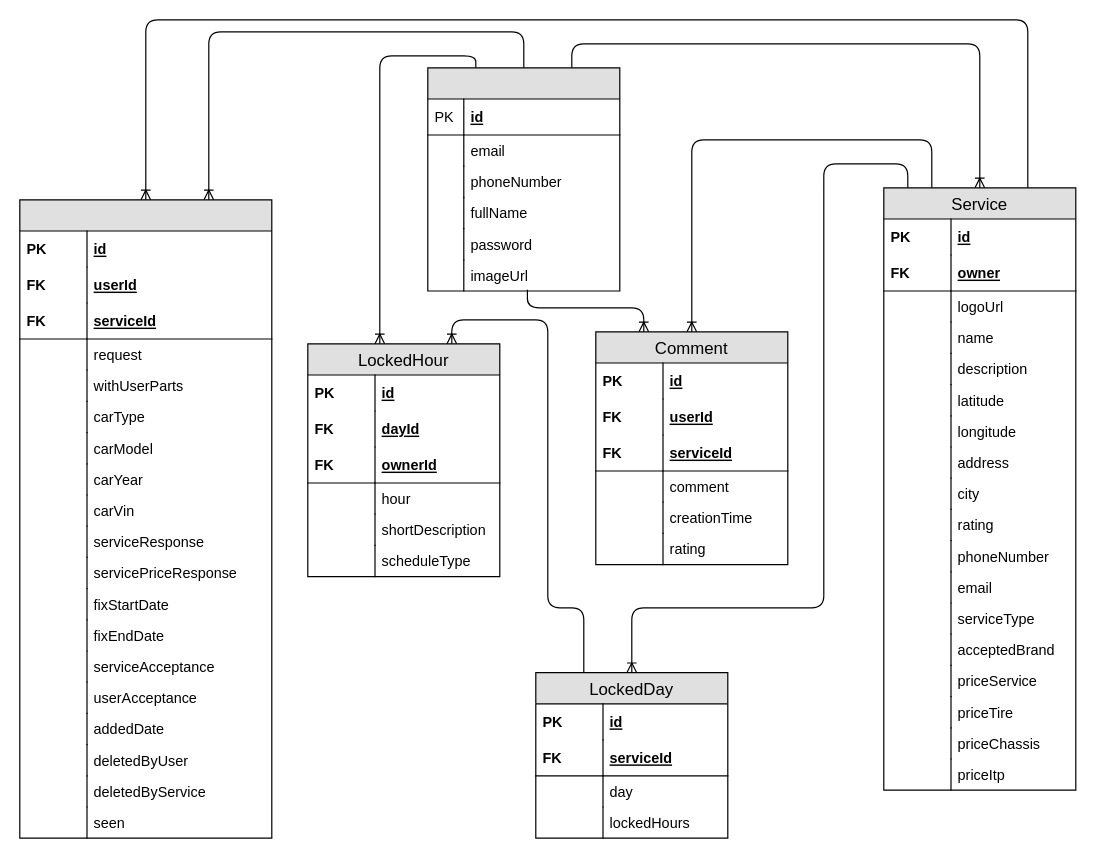
The diagram is 1096 pixels wide and 858 high, and some of its shapes have lost their labels. Here are the shapes that lost their labels. From the top down, the box of each, then its label:
(427, 67, 620, 291): User
(19, 199, 272, 838): RequestedOffer
